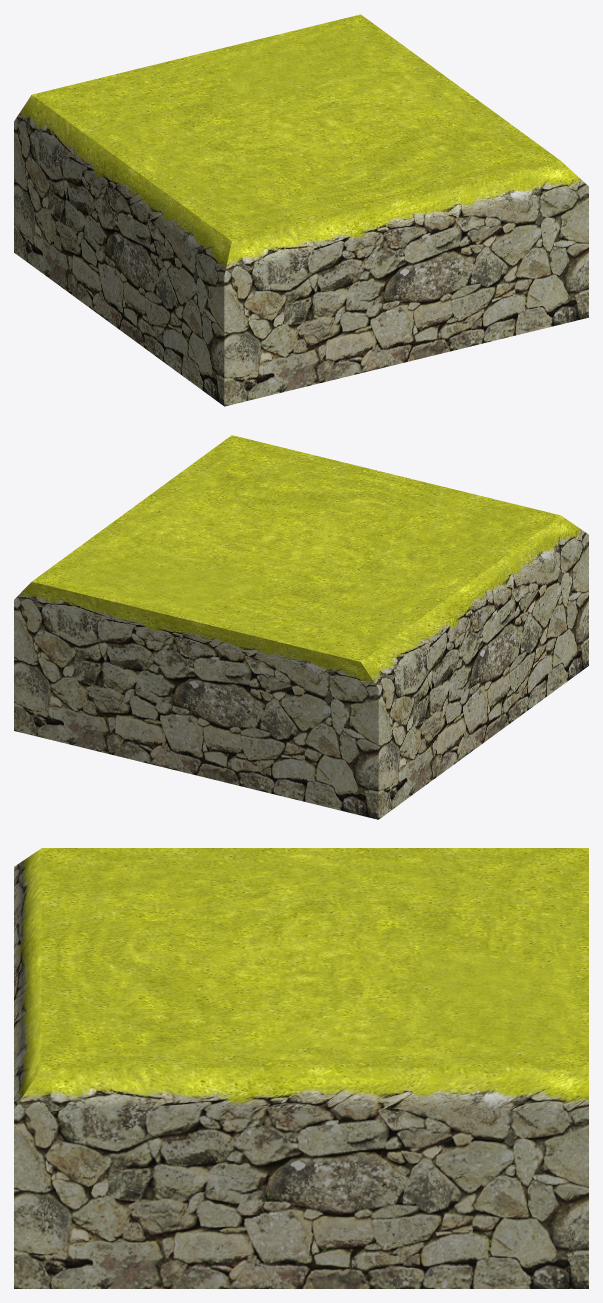
Rendered from Big_Rock_Ledge_Tri_01.fbx.
3 views of the same model, one above another, from view 1: azimuth 30°, elevation 25°; view 2: azimuth 150°, elevation 25°; view 3: azimuth 270°, elevation 25° (orthographic). The views are drawn at different scales.
Visible parts, largest first — view 1: bigCubeReference_polySurface4; view 2: bigCubeReference_polySurface4; view 3: bigCubeReference_polySurface4.
Boxes of the visible parts, x1=… form: bigCubeReference_polySurface4: x1=14, y1=14, x2=588, y2=406; bigCubeReference_polySurface4: x1=14, y1=435, x2=588, y2=819; bigCubeReference_polySurface4: x1=14, y1=848, x2=588, y2=1288.
Bounding box in the file's own units: 9.77 × 3.93 × 9.77.
1 material, 1 textured.
